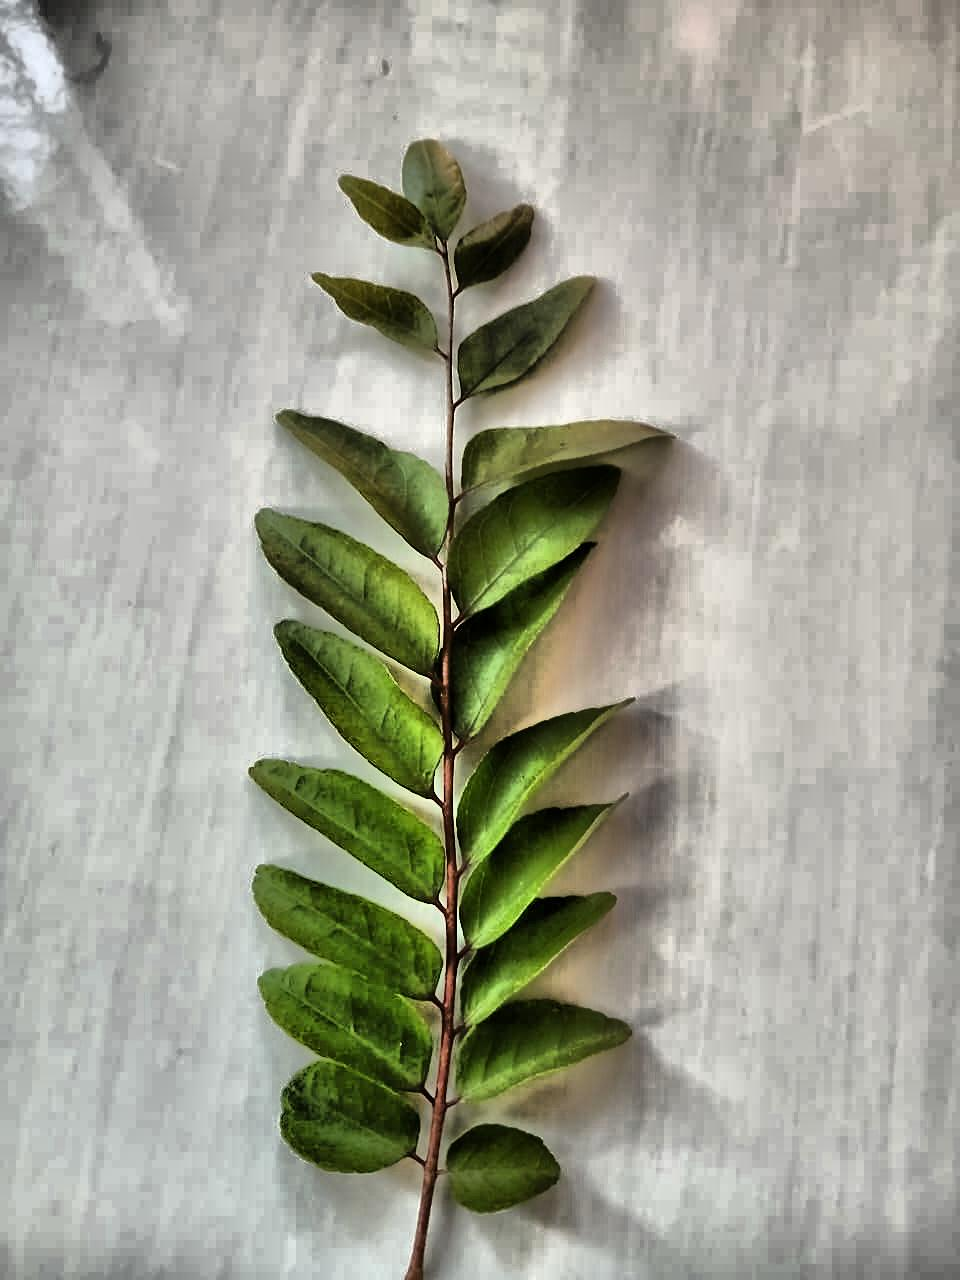daun kari: (250, 139, 631, 1279)
